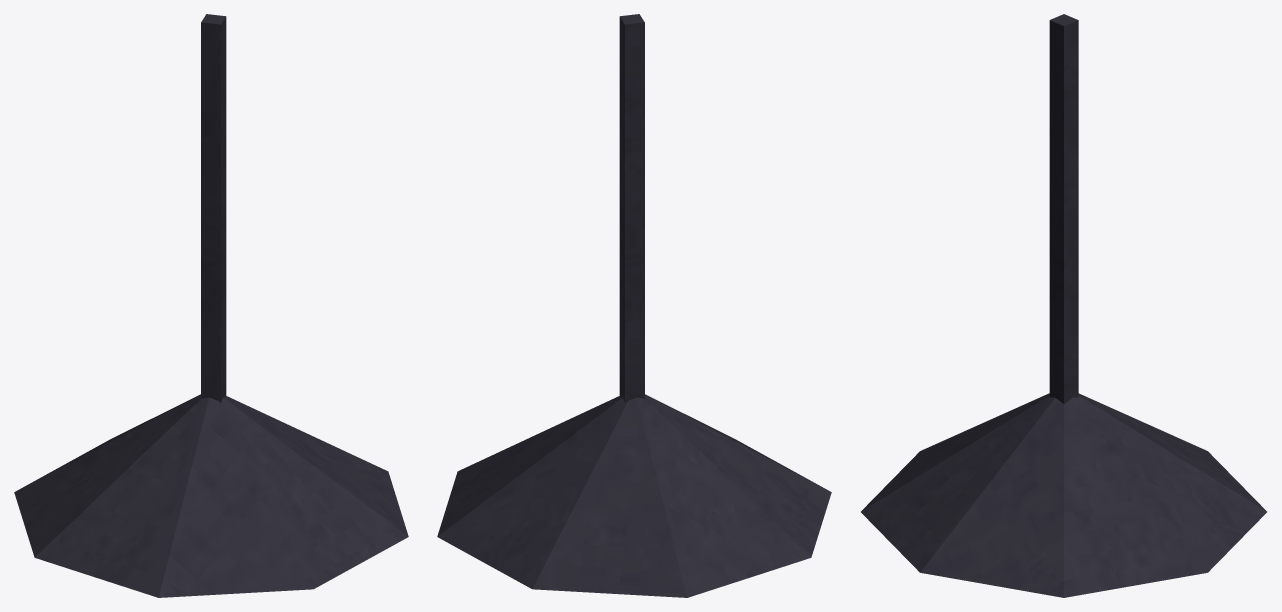
Rendered from Factory_Lamp.glb.
3 views of the same model, side by side, from view 1: azimuth 30°, elevation 25°; view 2: azimuth 150°, elevation 25°; view 3: azimuth 270°, elevation 25° (orthographic).
Visible parts, largest first — view 1: Factory_Wall_Lamp; view 2: Factory_Wall_Lamp; view 3: Factory_Wall_Lamp.
Boxes of the visible parts, bbox=[...] form: Factory_Wall_Lamp: bbox=[14, 14, 408, 597]; Factory_Wall_Lamp: bbox=[437, 14, 831, 597]; Factory_Wall_Lamp: bbox=[861, 14, 1266, 597].
Bounding box in the file's own units: 0.667 × 0.9716 × 0.667.
Materials: 2 (1 with a texture image).
